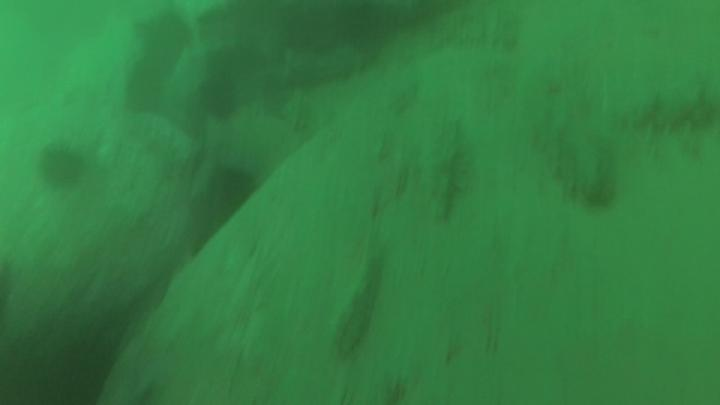echinus: (209, 169, 253, 211), (39, 148, 83, 188), (201, 77, 240, 119)
holothurian: (327, 256, 387, 360), (612, 91, 720, 133)
